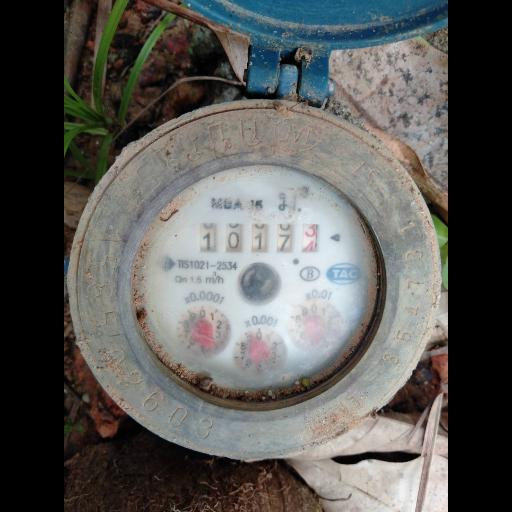0: (227, 223, 242, 252)
1: (200, 222, 216, 252), (251, 223, 267, 252)
3: (302, 224, 318, 253)
7: (277, 224, 292, 253)
border_water_meter_number: (198, 222, 318, 254)
